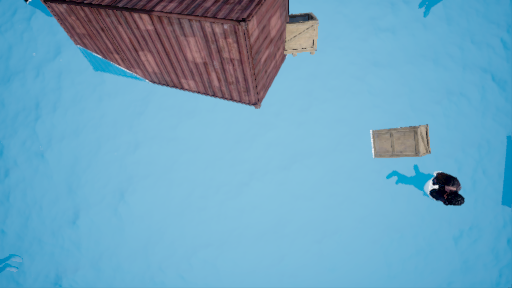person: (392, 164, 464, 209)
